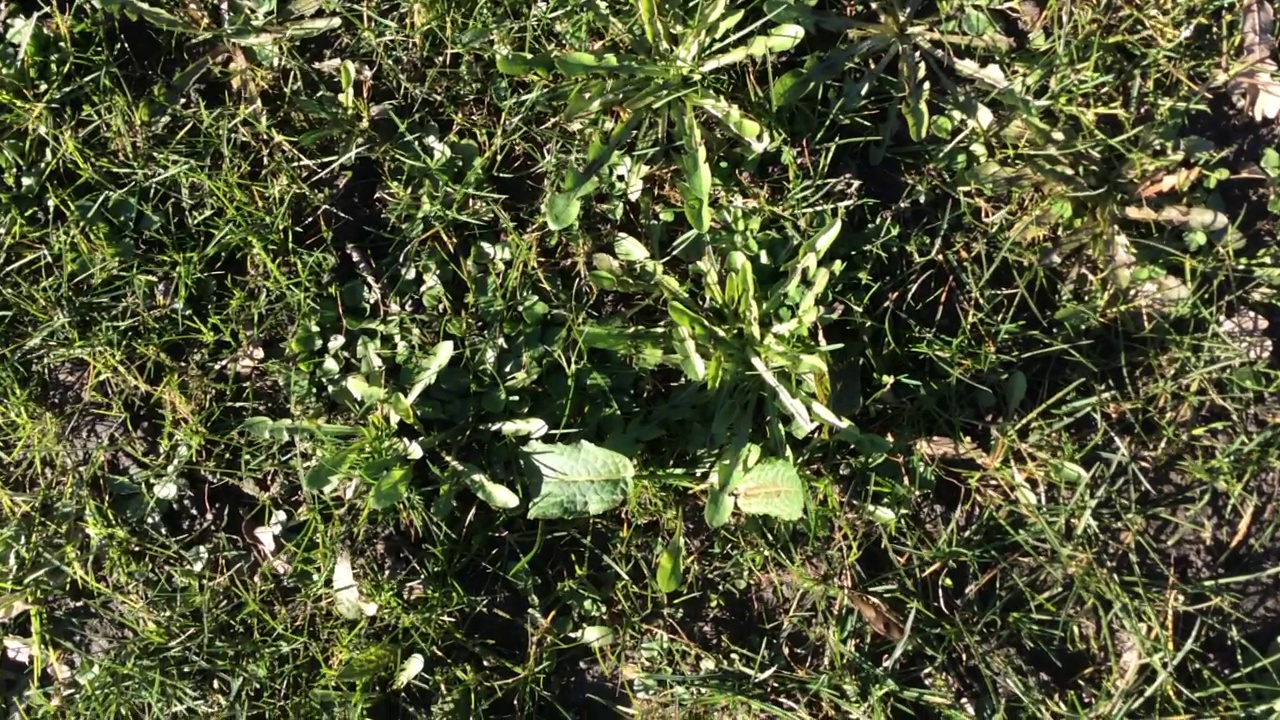rumex: (486, 443, 633, 522), (729, 465, 806, 520)
